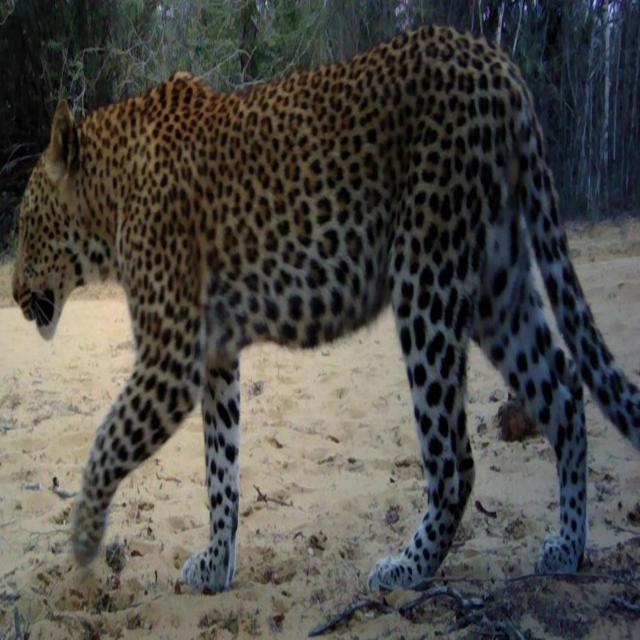Leopard: (13, 23, 628, 615)
